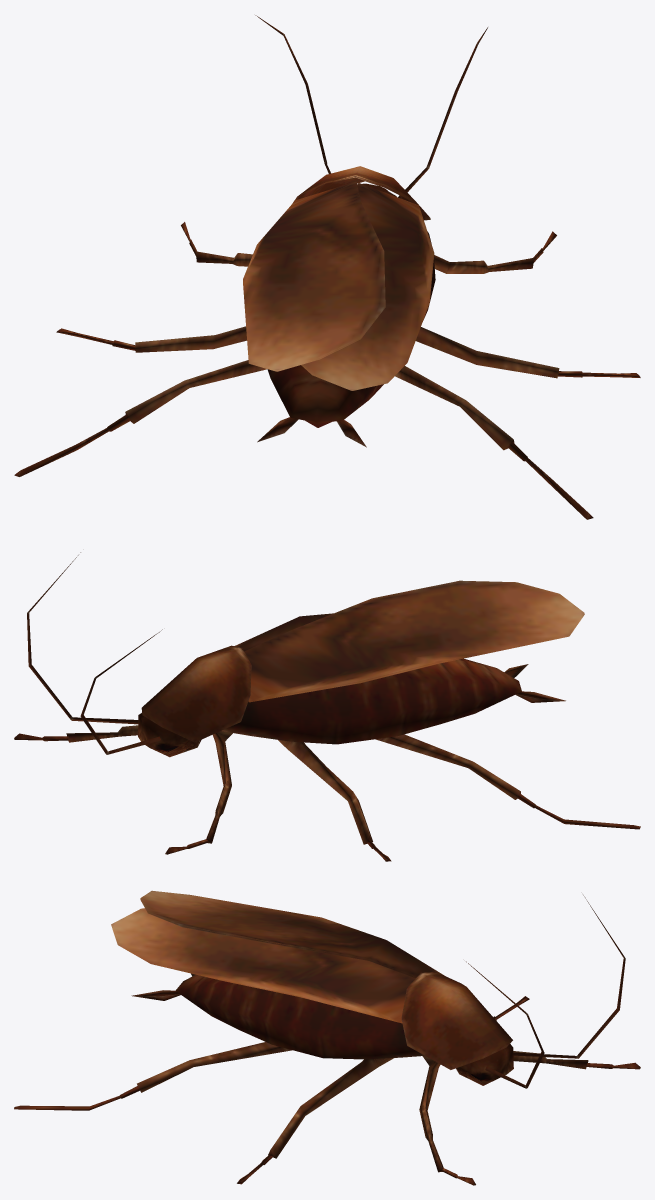
Rendered from m_icon_g.ico.obj.
3 renders of one model, top to bottom at view 1: azimuth 30°, elevation 25°; view 2: azimuth 150°, elevation 25°; view 3: azimuth 270°, elevation 25°, orthographic. The views are drawn at different scales.
Size of the model in its own units: 4.67 by 1.82 by 4.75.
1 material, 1 textured.
